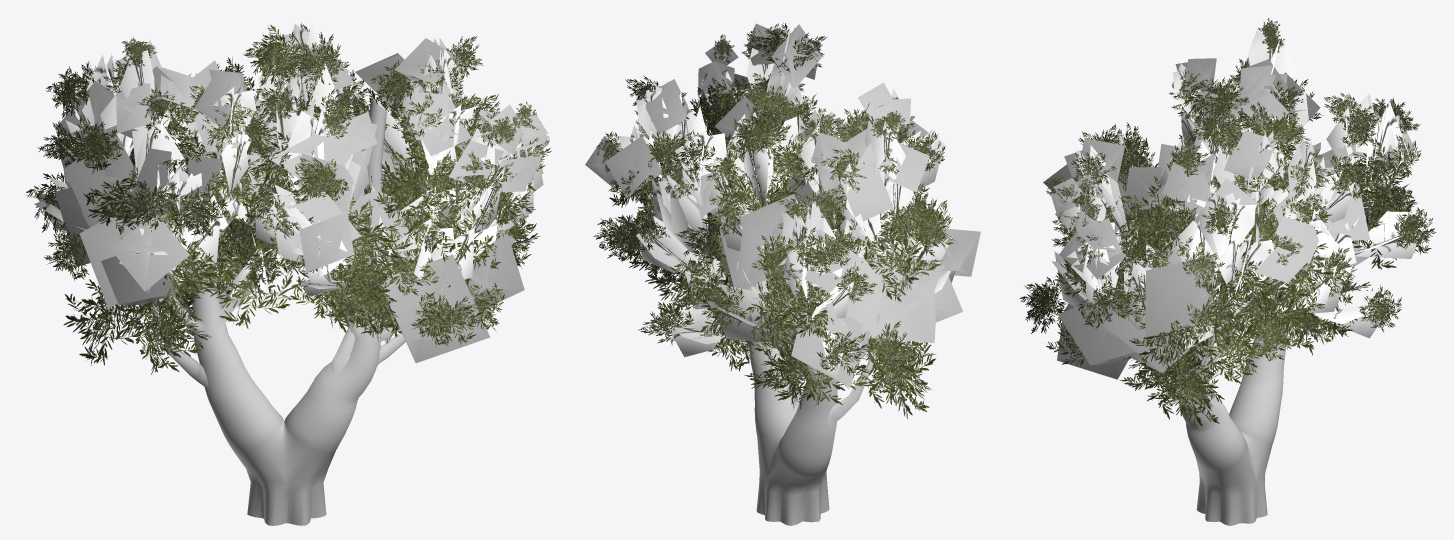
Rendered from Type_2_2.fbx.
3 renders of one model, left to right at view 1: azimuth 30°, elevation 25°; view 2: azimuth 150°, elevation 25°; view 3: azimuth 270°, elevation 25°, orthographic. The views are drawn at different scales.
Parts seen in each view (by area): view 1: Type_2_2; view 2: Type_2_2; view 3: Type_2_2.
Boxes of the visible parts, <box> form: Type_2_2: <box>26,22,551,525</box>; Type_2_2: <box>585,22,980,525</box>; Type_2_2: <box>1020,18,1436,525</box>.
Bounding box in the file's own units: 11.79 × 11.52 × 12.92.
